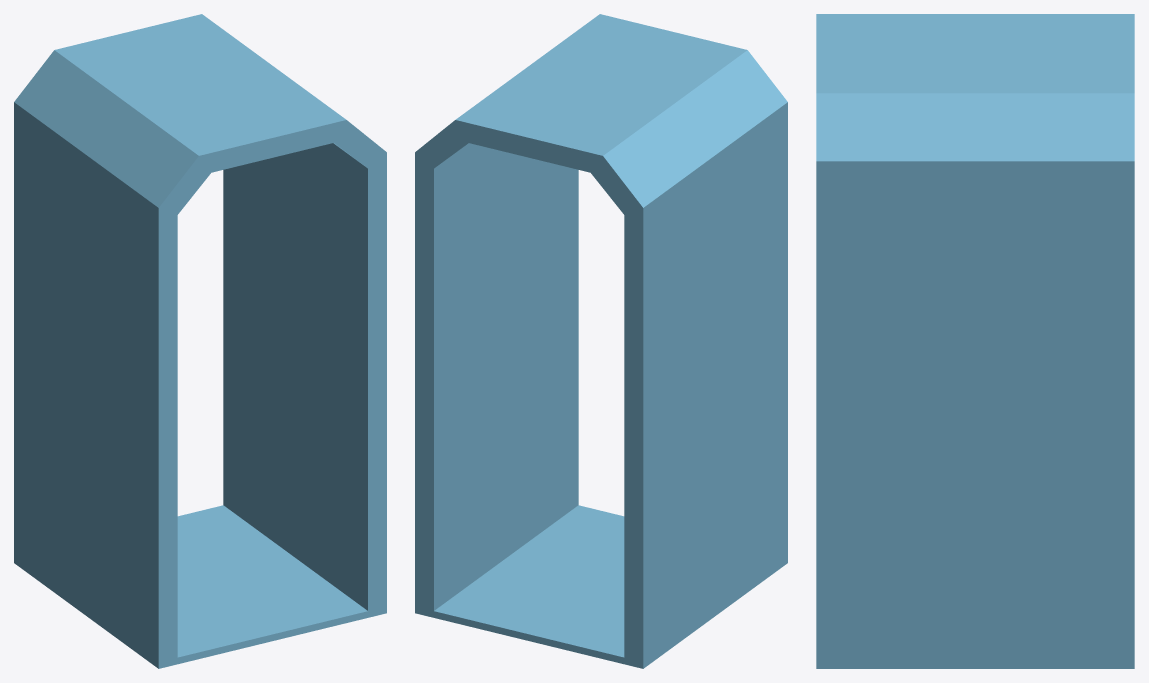
Rendered from door_frame_single_small_a.fbx.
3 views of the same model, side by side, from view 1: azimuth 30°, elevation 25°; view 2: azimuth 150°, elevation 25°; view 3: azimuth 270°, elevation 25° (orthographic). The views are drawn at different scales.
Parts seen in each view (by area): view 1: door_frame_single_small_a; view 2: door_frame_single_small_a; view 3: door_frame_single_small_a.
Part boxes in pixels (bbox=[...]): door_frame_single_small_a: bbox=[14, 14, 386, 668]; door_frame_single_small_a: bbox=[415, 14, 787, 668]; door_frame_single_small_a: bbox=[816, 14, 1134, 668].
Size of the model in its own units: 0.889 by 1.87 by 0.976.
